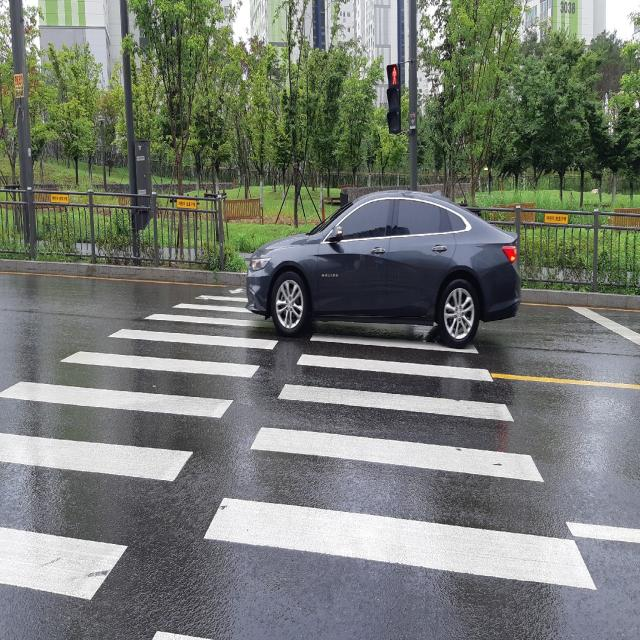빨간불: (386, 62, 402, 136)
횡단보도: (0, 279, 618, 639)
